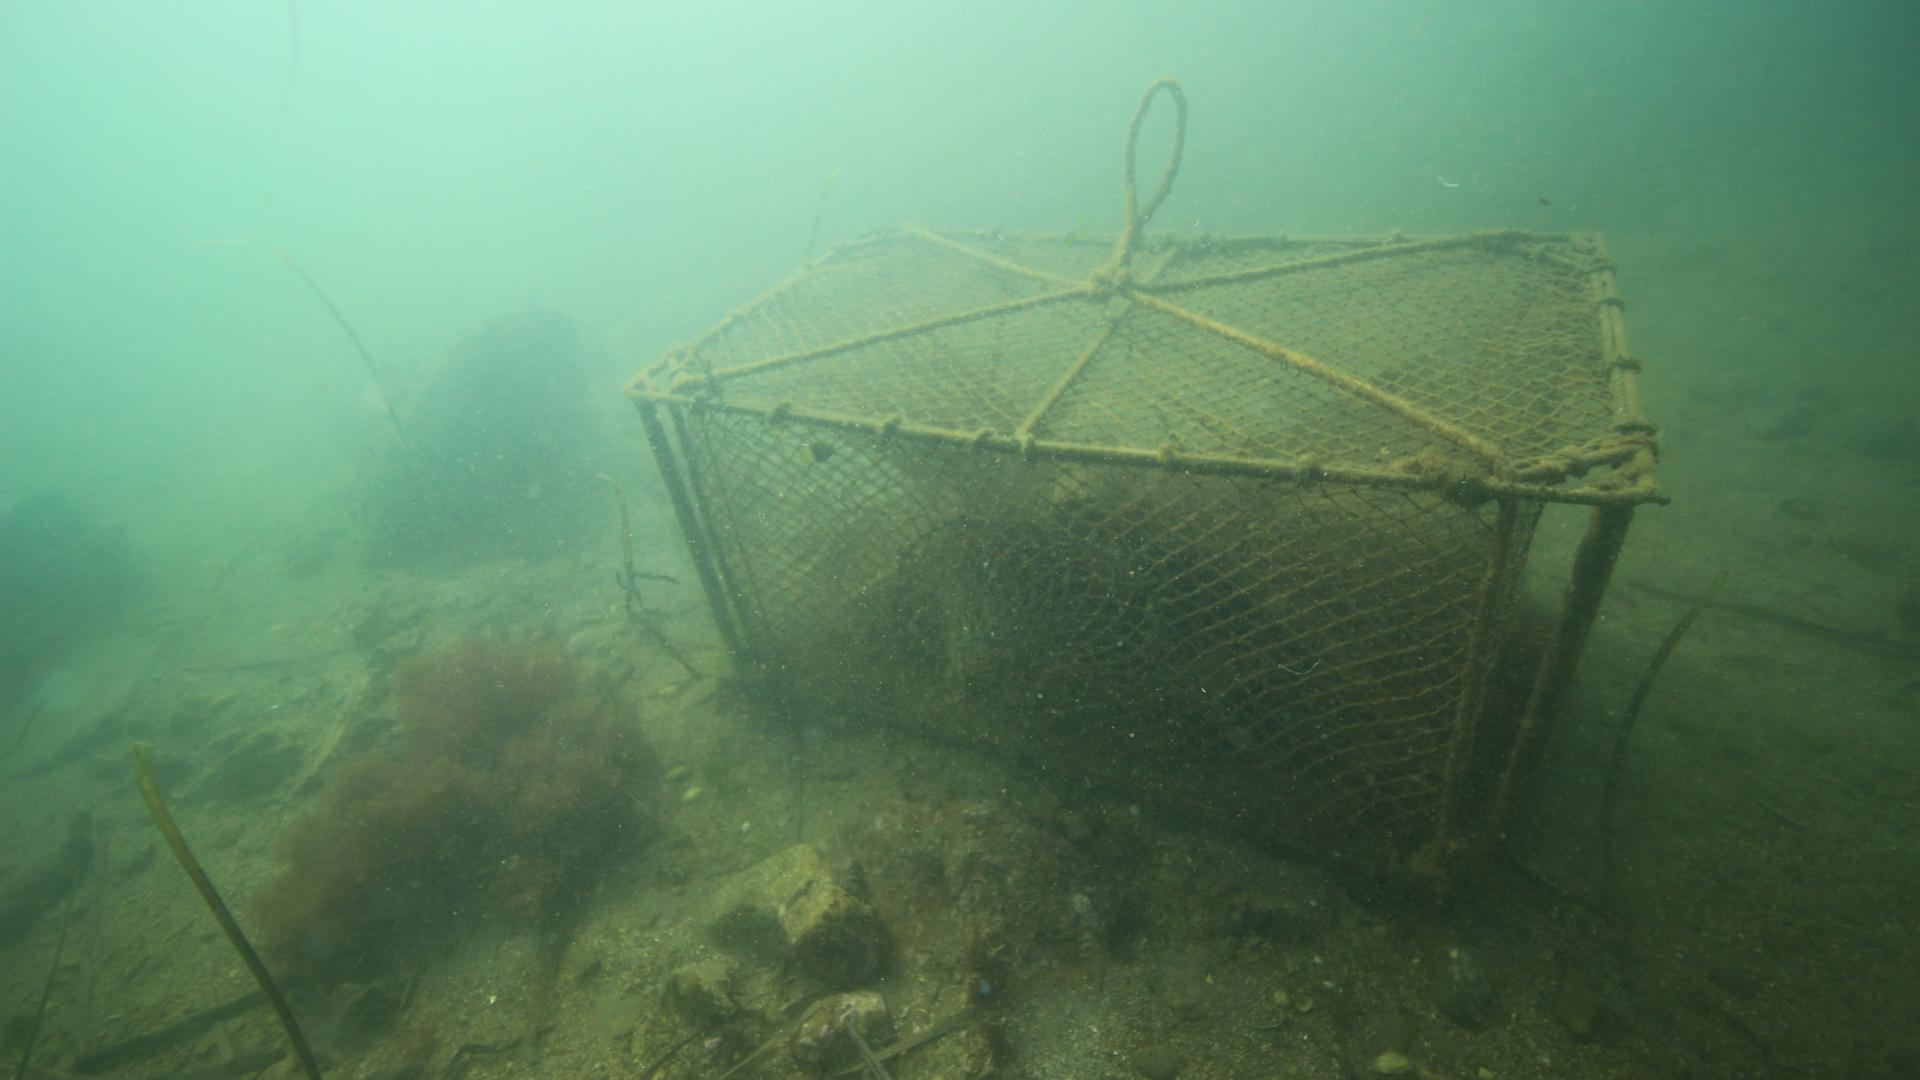bundle of ropes: (1071, 76, 1197, 237)
rectangular fish trap: (616, 216, 1683, 923)
